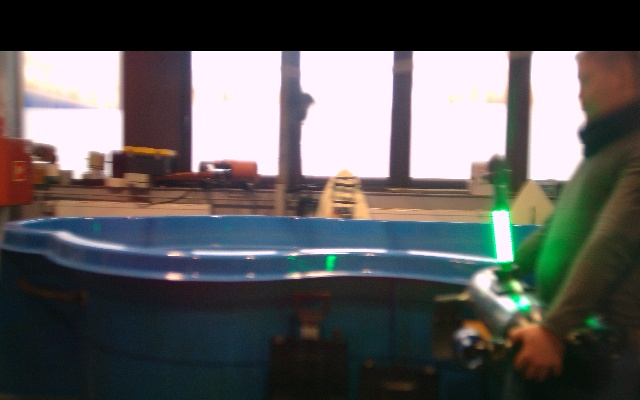green: (491, 208, 513, 267)
